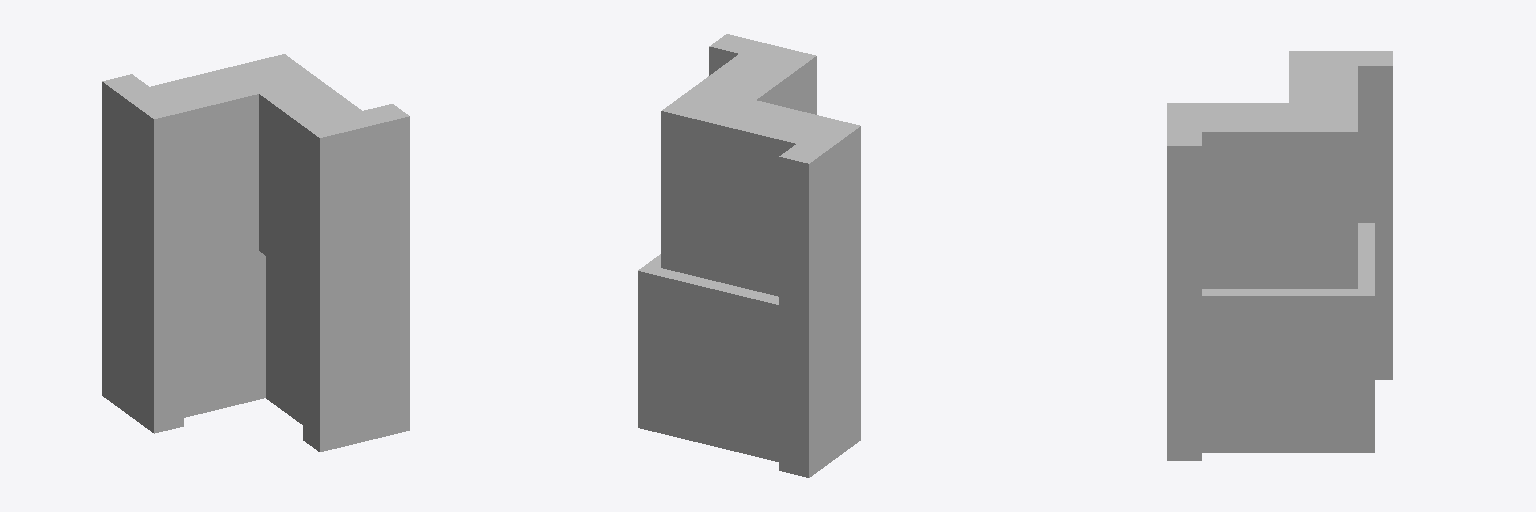
Rendered from mylandscaping_blockm_oc_b.obj.
3 views of the same model, side by side, from view 1: azimuth 30°, elevation 25°; view 2: azimuth 150°, elevation 25°; view 3: azimuth 270°, elevation 25° (orthographic).
Visible parts, largest first — view 1: Madison_OC_B_Cube.030; view 2: Madison_OC_B_Cube.030; view 3: Madison_OC_B_Cube.030.
Boxes of the visible parts, x1=… form: Madison_OC_B_Cube.030: x1=102, y1=54, x2=409, y2=451; Madison_OC_B_Cube.030: x1=638, y1=34, x2=860, y2=477; Madison_OC_B_Cube.030: x1=1167, y1=51, x2=1392, y2=460.
Bounding box in the file's own units: 0.65 × 1 × 0.65.